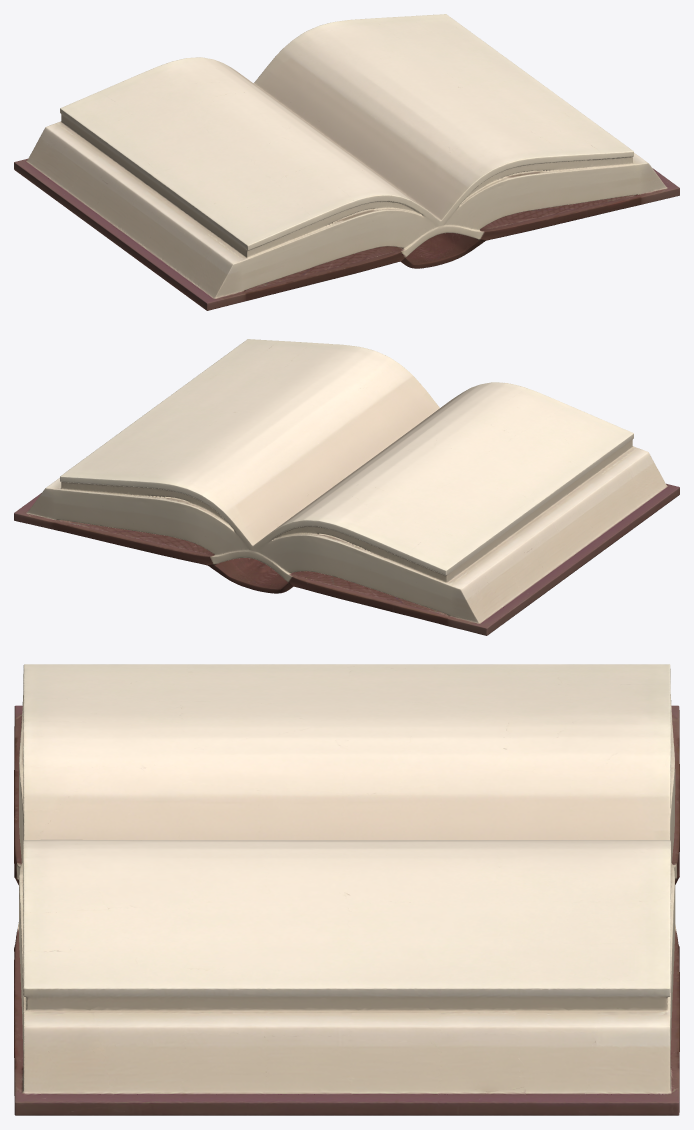
File: book.glb
3 views of the same model, one above another, from view 1: azimuth 30°, elevation 25°; view 2: azimuth 150°, elevation 25°; view 3: azimuth 270°, elevation 25° (orthographic). The views are drawn at different scales.
Bounding box in the file's own units: 1.9 × 0.3541 × 1.35.
Materials: 1 (1 with a texture image).
